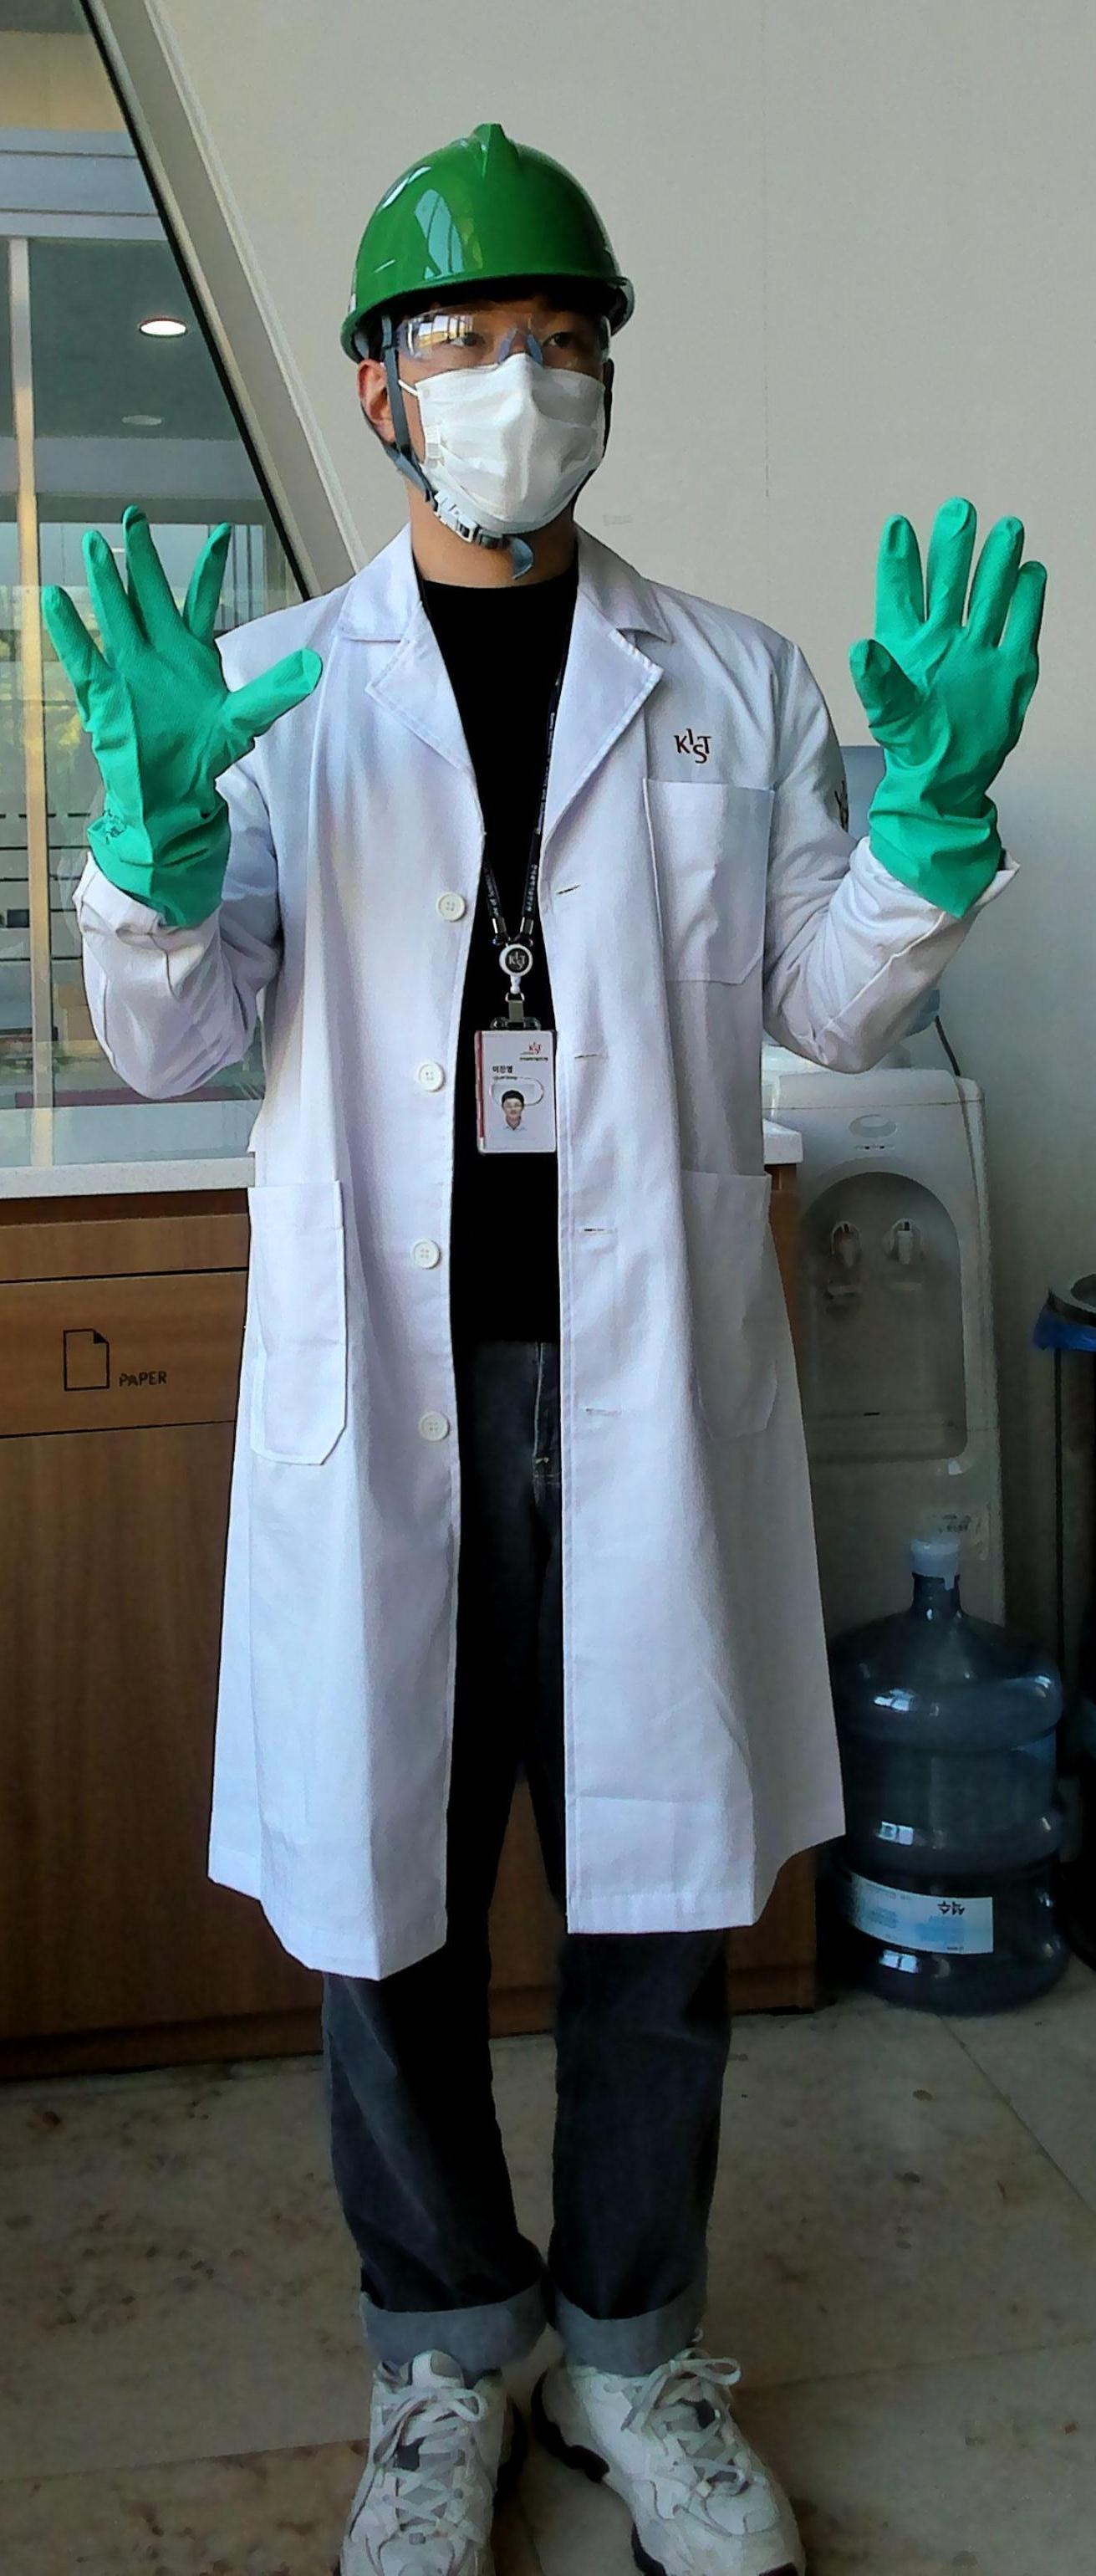lab_coat: (284, 567, 810, 1924)
